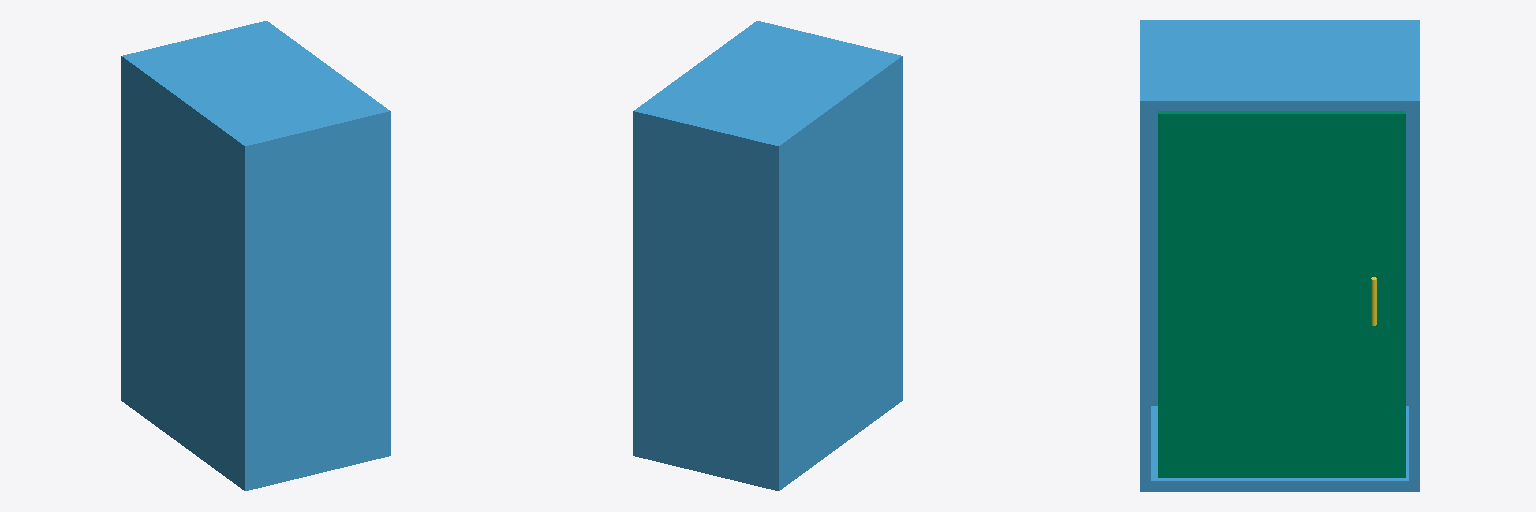
robot.urdf — my_cabinet:
<?xml version="1.0" ?>
<robot name="my_cabinet">
	<link name="world"/>
	<joint name="virtual_joint" type="fixed">
		<parent link="world"/>
		<child link="base_cabinet_link"/>
		<origin xyz="0.0 0.0 0.0" rpy="0.0 0.0 0.0"/>
	</joint>
	<link name="base_cabinet_link">
		<visual>
			<origin xyz="0.0 -0.0025 -0.33129345949491634" rpy="0.0 0.0 0.0"/>
			<geometry>
				<box size="0.3 0.44246334883268285 0.018"/>
			</geometry>
		</visual>
		<collision name="base_cabinet_link_collision_0">
			<origin xyz="0.0 -0.0025 -0.33129345949491634" rpy="0.0 0.0 0.0"/>
			<geometry>
				<box size="0.3 0.44246334883268285 0.018"/>
			</geometry>
		</collision>
		<visual>
			<origin xyz="0.0 0.20973167441634144 0.0" rpy="0.0 0.0 0.0"/>
			<geometry>
				<box size="0.3 0.018 0.6805869189898327"/>
			</geometry>
		</visual>
		<collision name="base_cabinet_link_collision_1">
			<origin xyz="0.0 0.20973167441634144 0.0" rpy="0.0 0.0 0.0"/>
			<geometry>
				<box size="0.3 0.018 0.6805869189898327"/>
			</geometry>
		</collision>
		<visual>
			<origin xyz="0.0 -0.21473167441634144 0.0" rpy="0.0 0.0 0.0"/>
			<geometry>
				<box size="0.3 0.018 0.6805869189898327"/>
			</geometry>
		</visual>
		<collision name="base_cabinet_link_collision_2">
			<origin xyz="0.0 -0.21473167441634144 0.0" rpy="0.0 0.0 0.0"/>
			<geometry>
				<box size="0.3 0.018 0.6805869189898327"/>
			</geometry>
		</collision>
		<visual>
			<origin xyz="0.0 -0.0025 0.33129345949491634" rpy="0.0 0.0 0.0"/>
			<geometry>
				<box size="0.3 0.44246334883268285 0.018"/>
			</geometry>
		</visual>
		<collision name="base_cabinet_link_collision_3">
			<origin xyz="0.0 -0.0025 0.33129345949491634" rpy="0.0 0.0 0.0"/>
			<geometry>
				<box size="0.3 0.44246334883268285 0.018"/>
			</geometry>
		</collision>
		<visual>
			<origin xyz="-0.141 -0.0025 0.0" rpy="0.0 0.0 0.0"/>
			<geometry>
				<box size="0.018 0.44246334883268285 0.6805869189898327"/>
			</geometry>
		</visual>
		<collision name="base_cabinet_link_collision_4">
			<origin xyz="-0.141 -0.0025 0.0" rpy="0.0 0.0 0.0"/>
			<geometry>
				<box size="0.018 0.44246334883268285 0.6805869189898327"/>
			</geometry>
		</collision>
		<inertial>
			<mass value="0.200000"/>
			<inertia ixx="0.010983" ixy="0.0" ixz="0.0" iyy="0.009220" iyz="0.0" izz="0.004763"/>
		</inertial>
	</link>
	<link name="door_link">
		<visual>
			<origin xyz="0.0 -0.19573167441634143 0.0"/>
			<geometry>
				<box size="0.018 0.39146334883268286 0.6345869189898327"/>
			</geometry>
		</visual>
		<collision name="door_link_collision">
			<origin xyz="0.0 -0.19573167441634143 0.0"/>
			<geometry>
				<box size="0.018 0.39146334883268286 0.6345869189898327"/>
			</geometry>
		</collision>
		<inertial>
			<mass value="0.200000"/>
			<inertia ixx="0.009266" ixy="0.0" ixz="0.0" iyy="0.006717" iyz="0.0" izz="0.002559"/>
		</inertial>
	</link>
	<joint name="door_joint" type="revolute">
		<origin xyz="0.141 -0.19573167441634143 0.0" rpy="0.000000 -0.000000 3.141593"/>
		<axis xyz="0 0 1"/>
		<parent link="base_cabinet_link"/>
		<child link="door_link"/>
		<limit effort="50" lower="-1.658062789394613" upper="0" velocity="10"/>
		<dynamics friction="3.5" damping="3.5"/>
	</joint>
	<link name="handle_link">
		<visual>
			<origin xyz="0.0 0.0 0.0" rpy="0.0 0.0 0.0"/>
			<geometry>
				<cylinder length="0.08" radius="0.005"/>
			</geometry>
		</visual>
		<collision name="handle_link_collision_0">
			<origin xyz="0.0 0.0 0.0" rpy="0.0 0.0 0.0"/>
			<geometry>
				<cylinder length="0.08" radius="0.005"/>
			</geometry>
		</collision>
		<visual>
			<origin xyz="-0.01 0.0 0.02" rpy="0.0 1.5707963267948966 0.0"/>
			<geometry>
				<cylinder length="0.02" radius="0.003"/>
			</geometry>
		</visual>
		<collision name="handle_link_collision_1">
			<origin xyz="-0.01 0.0 0.02" rpy="0.0 1.5707963267948966 0.0"/>
			<geometry>
				<cylinder length="0.01" radius="0.003"/>
			</geometry>
		</collision>
		<visual>
			<origin xyz="-0.01 0.0 -0.02" rpy="0.0 1.5707963267948966 0.0"/>
			<geometry>
				<cylinder length="0.02" radius="0.003"/>
			</geometry>
		</visual>
		<collision name="handle_link_collision_2">
			<origin xyz="-0.01 0.0 -0.02" rpy="0.0 1.5707963267948966 0.0"/>
			<geometry>
				<cylinder length="0.02" radius="0.003"/>
			</geometry>
		</collision>
		<inertial>
			<mass value="0.050000"/>
			<inertia ixx="0.000027" ixy="0.0" ixz="0.0" iyy="0.000029" iyz="0.0" izz="0.000003"/>
		</inertial>
	</link>
	<joint name="handle_joint" type="fixed">
		<origin xyz="-0.028999999999999998 -0.34146334883268287 0.0" rpy="0.000000 -0.000000 3.141593"/>
		<parent link="door_link"/>
		<child link="handle_link"/>
	</joint>
	<gazebo reference="base_cabinet_link">
		<sensor name="main_sensor" type="contact">
			<selfCollide>true</selfCollide>
			<alwaysOn>true</alwaysOn>
			<updateRate>5.0</updateRate>
			<material>Gazebo/Red</material>
			<contact>
				<collision>base_cabinet_link_collision_0_collision</collision>
				<collision>base_cabinet_link_collision_1_collision</collision>
				<collision>base_cabinet_link_collision_2_collision</collision>
				<collision>base_cabinet_link_collision_3_collision</collision>
				<collision>base_cabinet_link_collision_4_collision</collision>
			</contact>
			<plugin name="gazebo_ros_bumper_controller" filename="libgazebo_ros_bumper.so">
				<bumperTopicName>/contact</bumperTopicName>
				<frameName>world</frameName>
			</plugin>
		</sensor>
	</gazebo>
	<gazebo reference="door_link">
		<sensor name="main_sensor" type="contact">
			<selfCollide>true</selfCollide>
			<alwaysOn>true</alwaysOn>
			<updateRate>5.0</updateRate>
			<material>Gazebo/Red</material>
			<contact>
				<collision>door_link_collision_collision</collision>
			</contact>
			<plugin name="gazebo_ros_bumper_controller" filename="libgazebo_ros_bumper.so">
				<bumperTopicName>/contact_door</bumperTopicName>
				<frameName>contact_door</frameName>
			</plugin>
		</sensor>
	</gazebo>
	<gazebo reference="door_link">
		<mu>3.0</mu>
		<mu2>3.0</mu2>
		<kp>10000000</kp>
		<kd>100</kd>
	</gazebo>
</robot>

--- Render facts (derived) ---
Views: 3 orthographic renders of the robot side by side, from view 1: azimuth 30°, elevation 25°; view 2: azimuth 150°, elevation 25°; view 3: azimuth 270°, elevation 25°.
Model my_cabinet with 4 links and 3 joints (1 revolute, 2 fixed), rooted at world, posed all joints at 0.
Visible links, largest first — view 1: base_cabinet_link; view 2: base_cabinet_link; view 3: door_link, base_cabinet_link.
Link boxes in pixels (x1,y1,x2,y2): base_cabinet_link: (121,21,390,490); base_cabinet_link: (633,21,902,490); door_link: (1158,111,1405,477); base_cabinet_link: (1140,20,1419,491).
Size in the robot's own frame: 0.325 by 0.4425 by 0.6806 metres.
Geometry: primitives only (box / cylinder / sphere), no mesh files.
